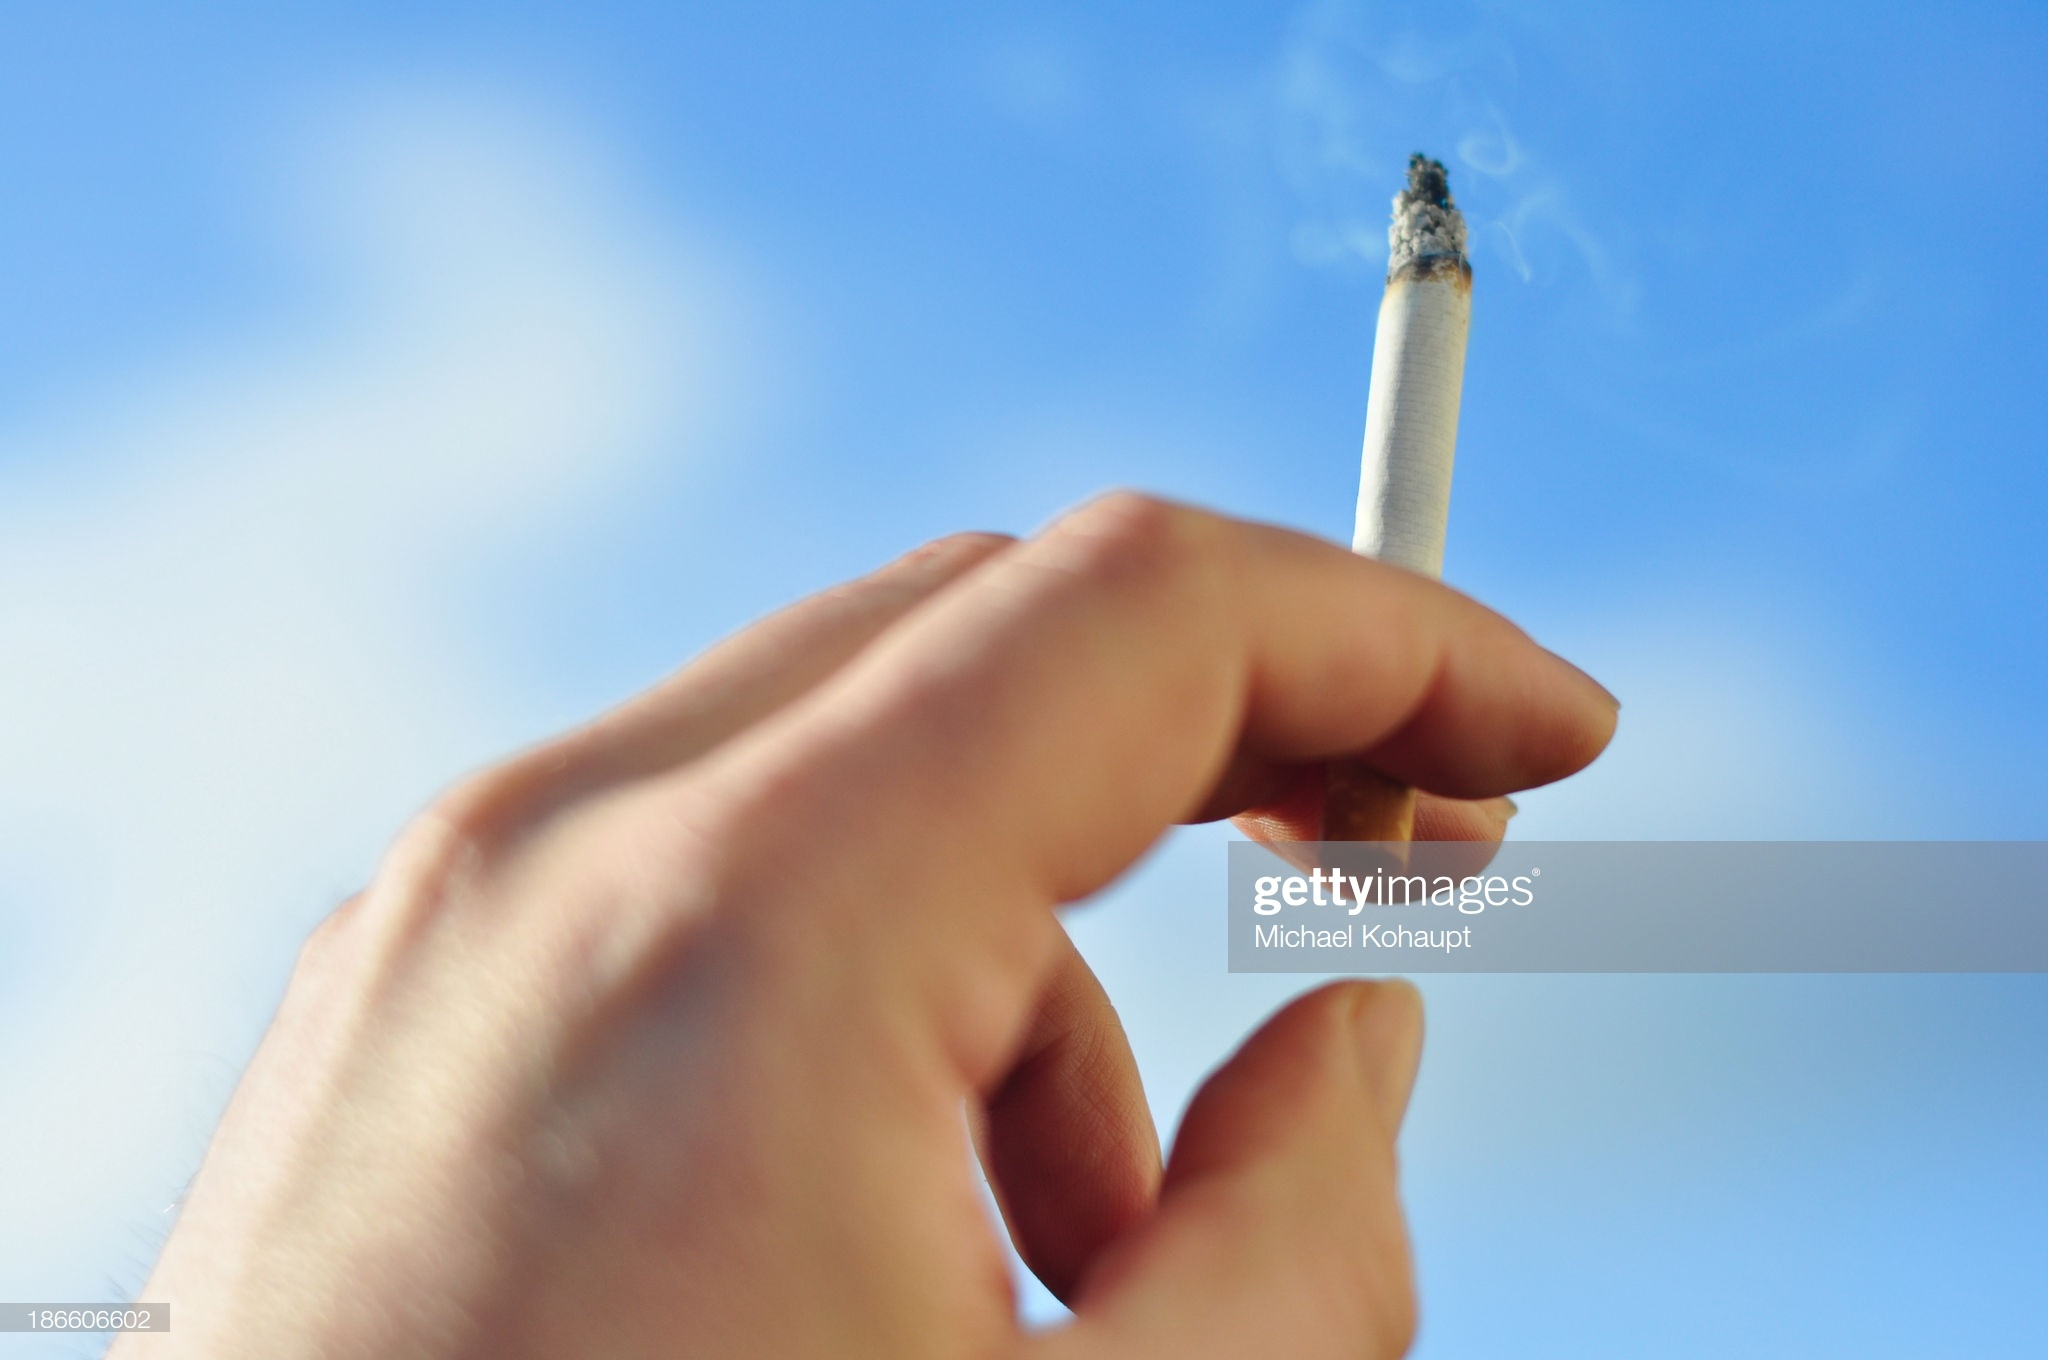sigaretta: (1356, 178, 1467, 864)
